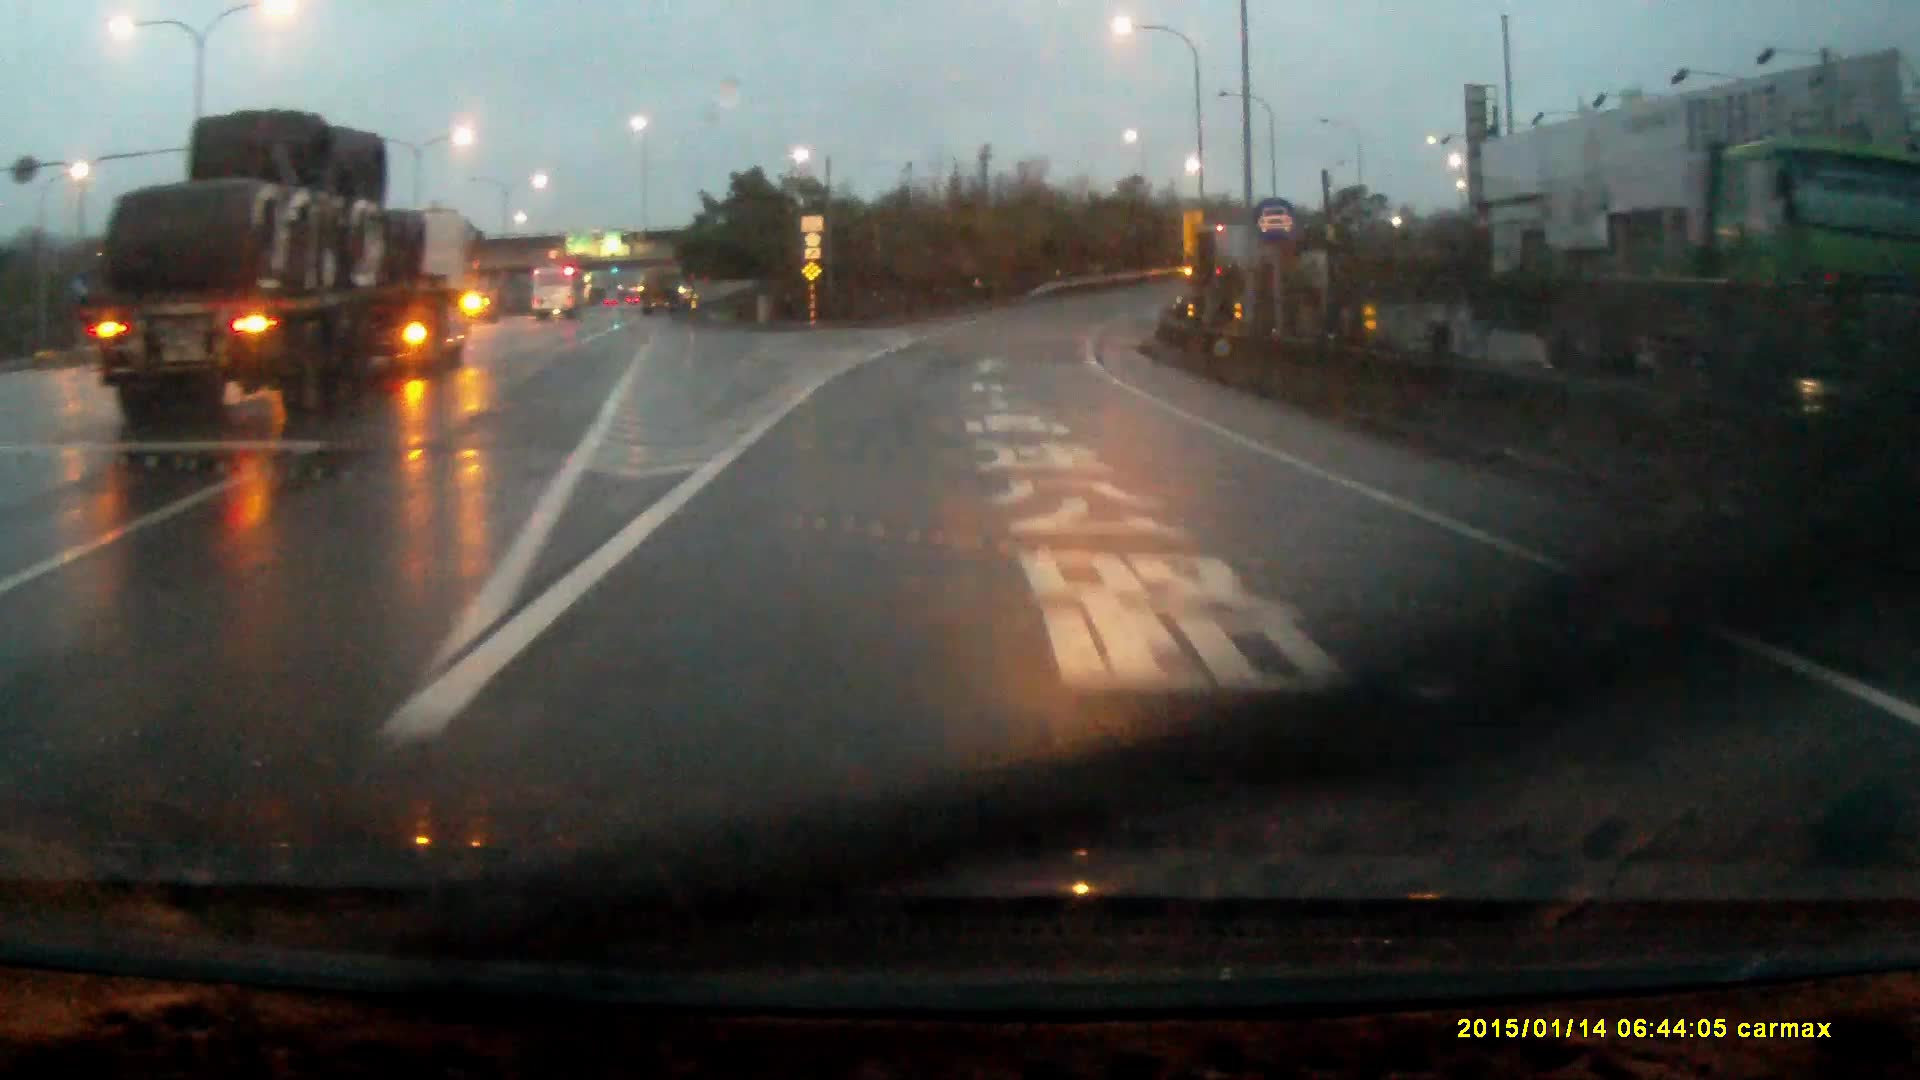vehicle: (76, 111, 481, 415), (531, 266, 585, 324)
